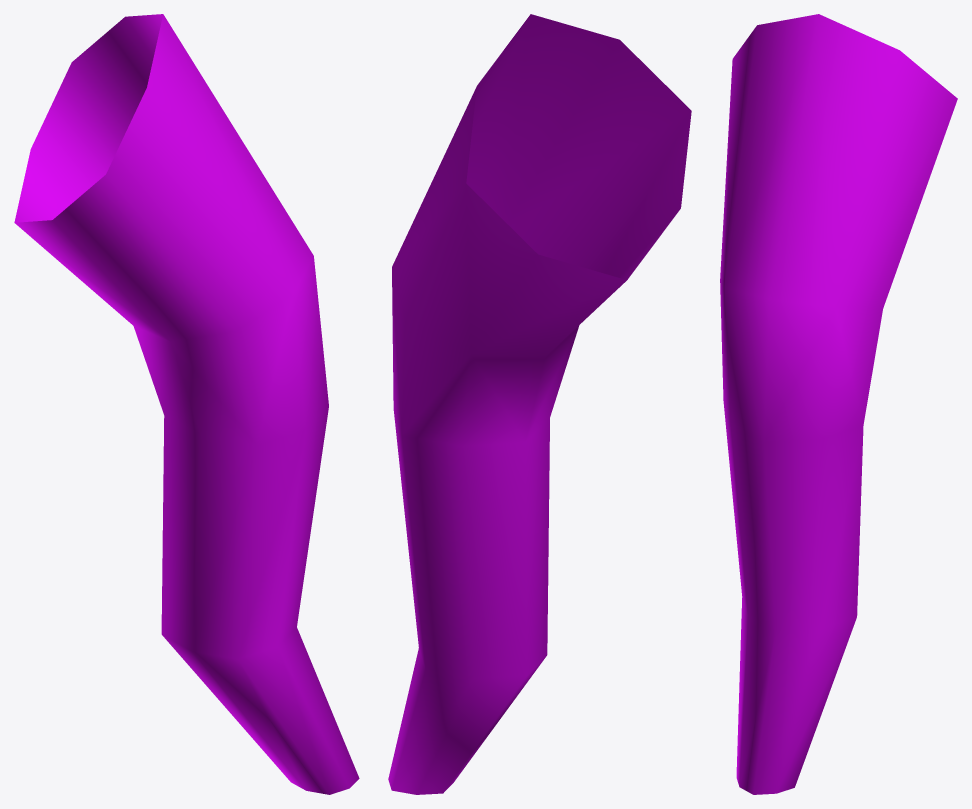
3 renders of one model, left to right at view 1: azimuth 30°, elevation 25°; view 2: azimuth 150°, elevation 25°; view 3: azimuth 270°, elevation 25°, orthographic. The views are drawn at different scales.
Parts seen in each view (by area): view 1: polySurface1; view 2: polySurface1; view 3: polySurface1.
Part boxes in pixels (left/top/right/bottom): polySurface1: left=14, top=14, right=359, bottom=794; polySurface1: left=388, top=14, right=691, bottom=794; polySurface1: left=720, top=14, right=957, bottom=794.
Bounding box in the file's own units: 5.92 × 15.33 × 4.66.
